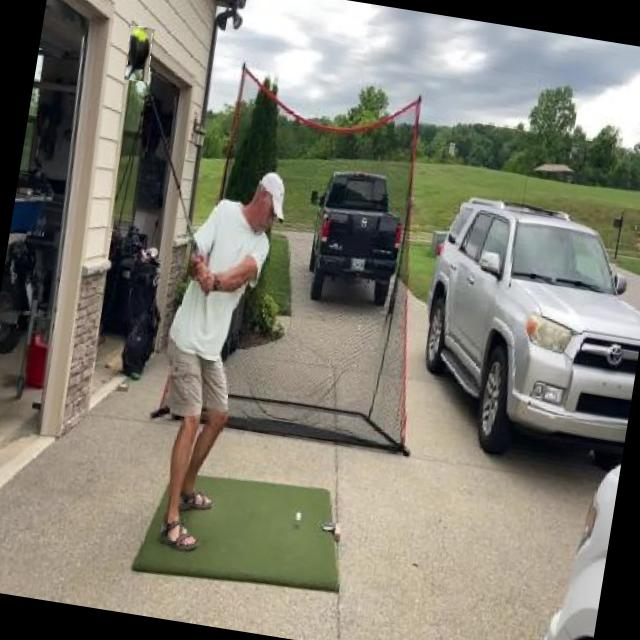club head: (124, 26, 156, 83)
